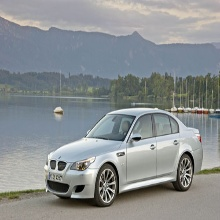no damage: (44, 107, 204, 207)
